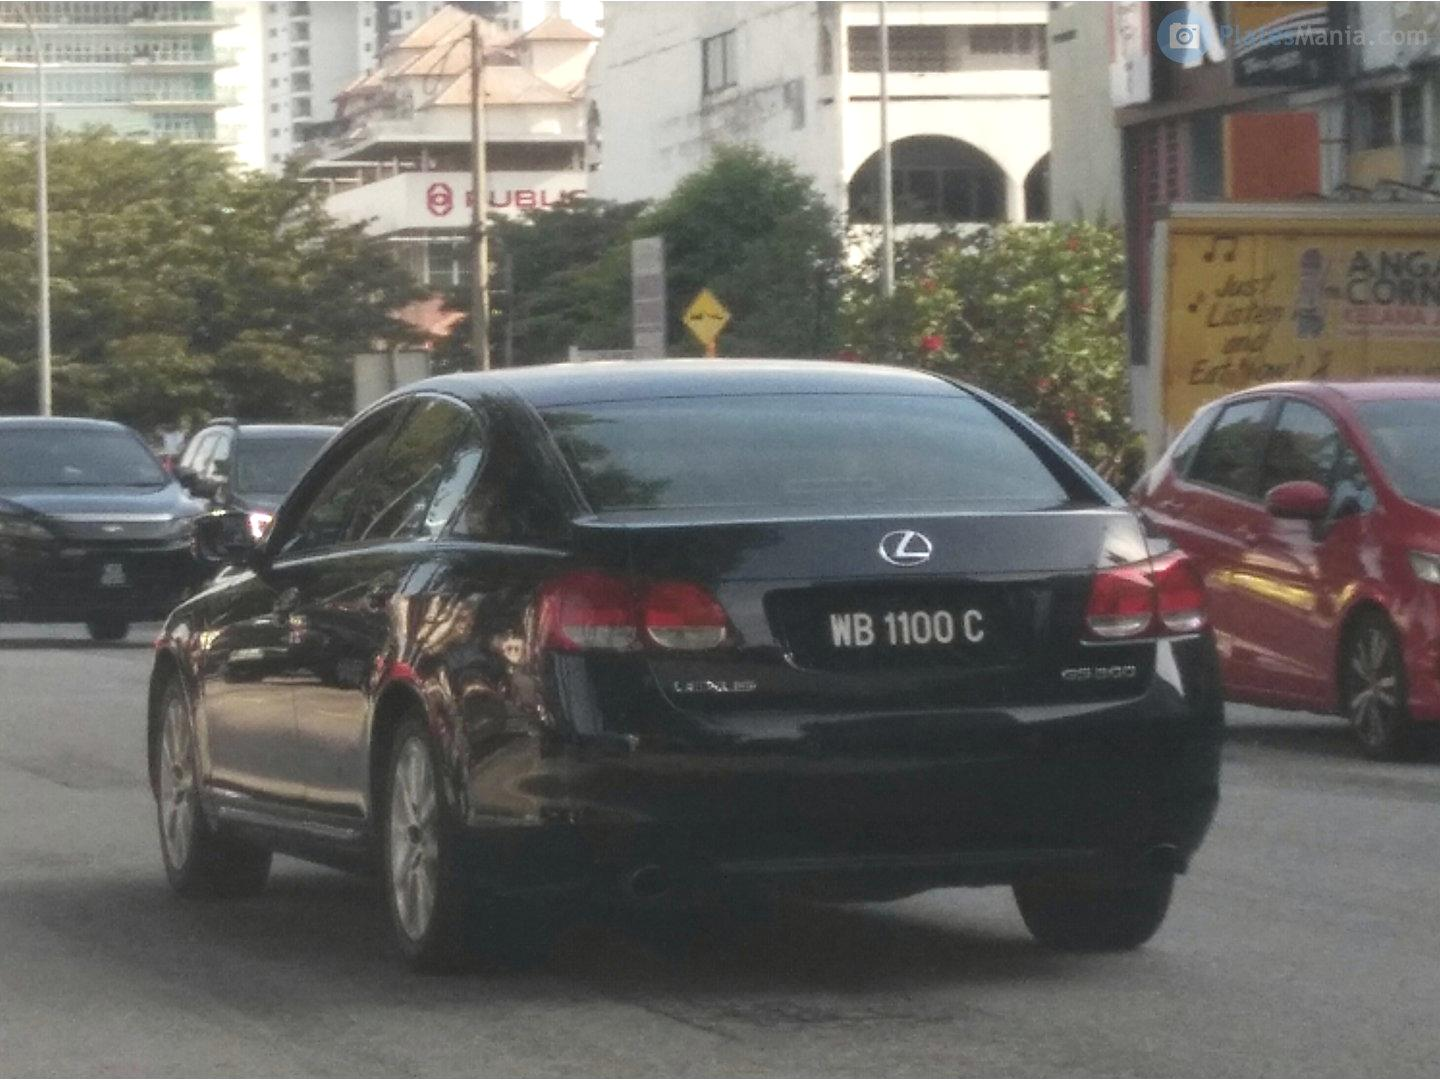License Plate: (817, 590, 1033, 670)
